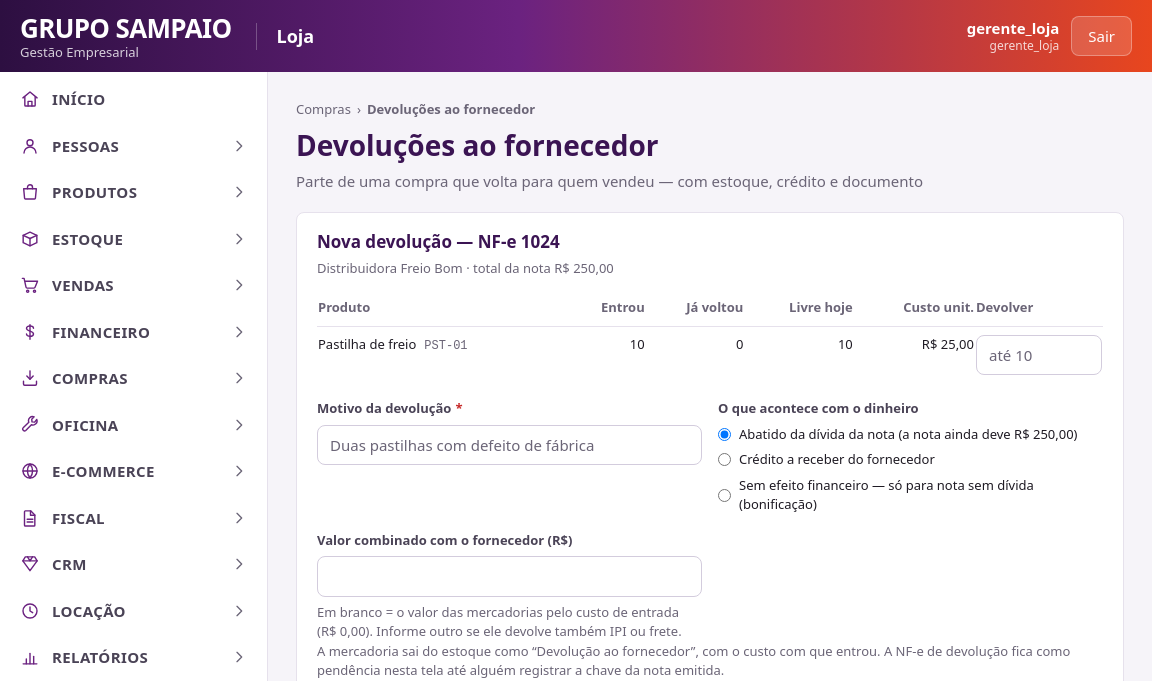
GAP-PRD-089 — a devolução nova, a partir da nota › o registro viaja com itens, motivo e modo; a ficha abre com a pendência fiscal
In the number field named "Quantidade de Pastilha de freio a devolver": (1039, 355) [976,334,1102,375], type "2"
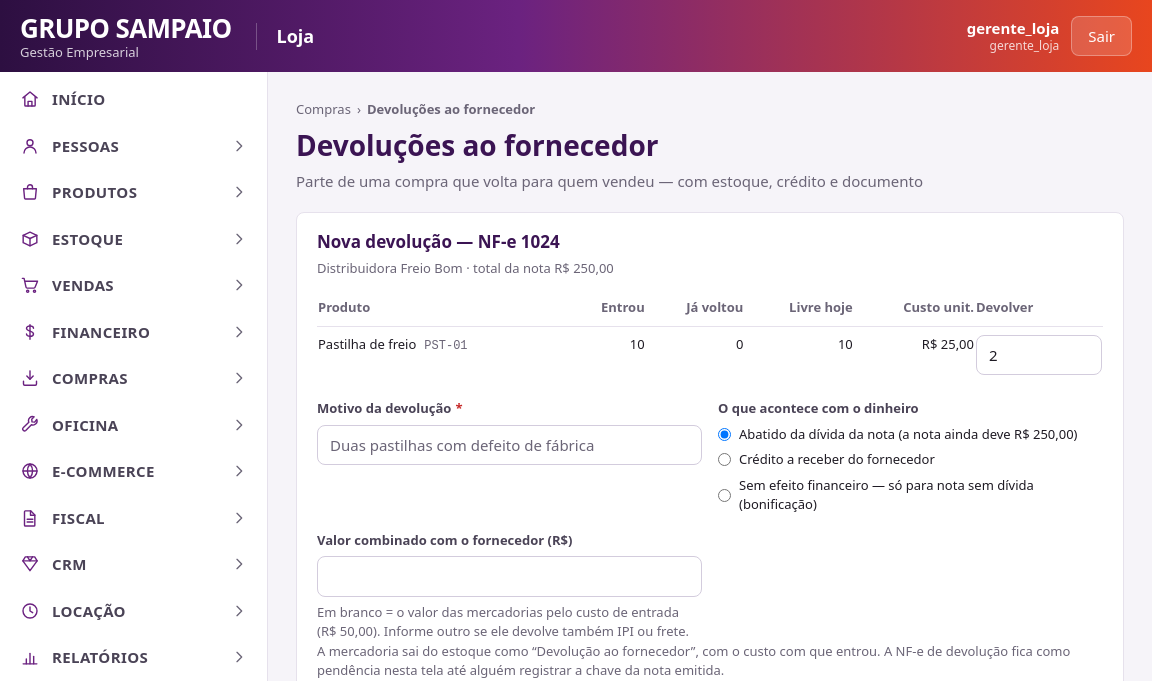
In the field labelled "Motivo da devolução*": (510, 445) [317,424,702,465], type "Duas com defeito"
(page scrolled)
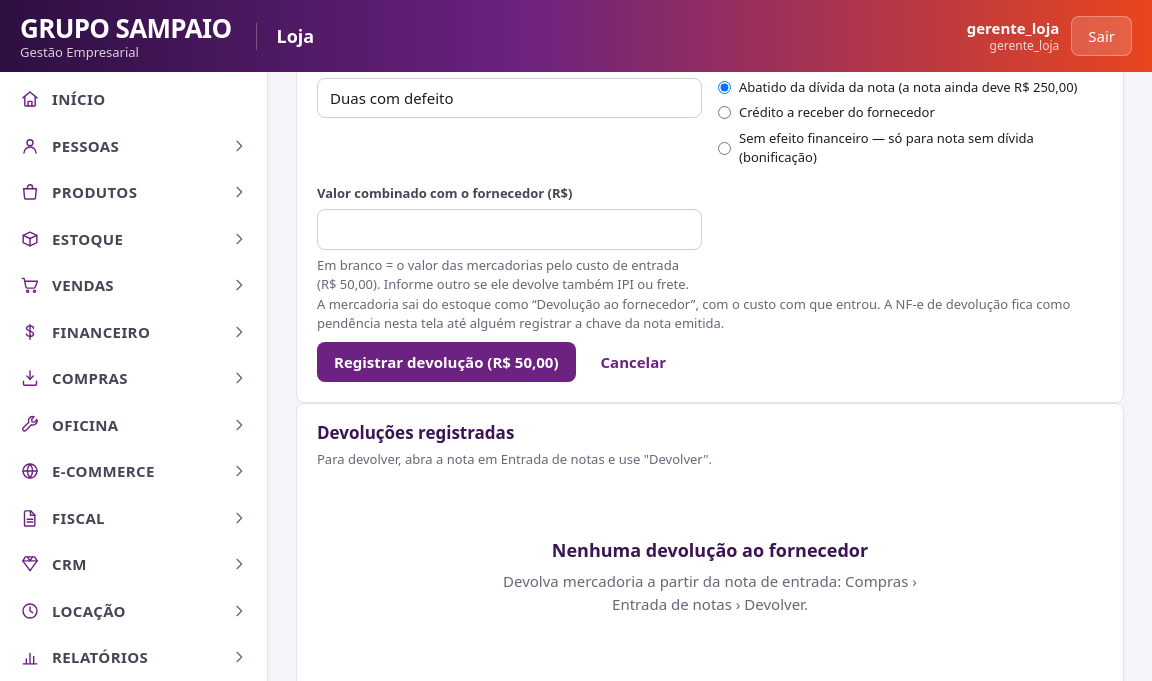
Click the button "Registrar devolução (R$ 50,00)": (446, 362) [317,342,576,382]
(page scrolled)
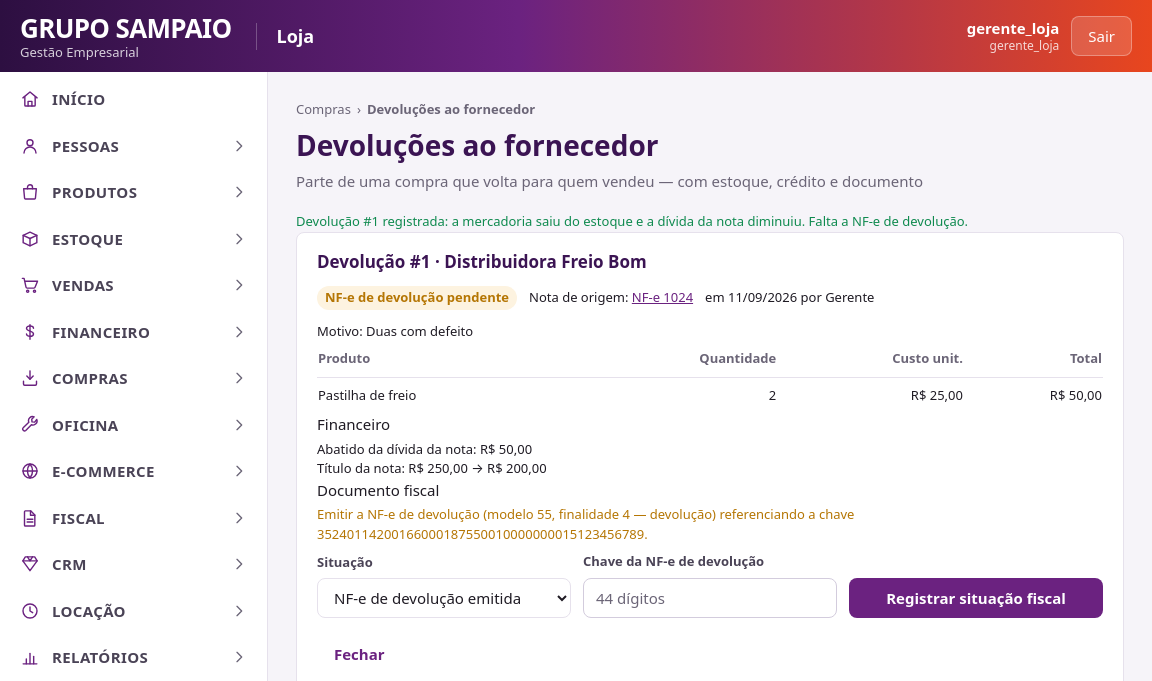
Result: the text "Devolução #1 registrada" is shown at [296,212,968,230]
Result: the text "finalidade 4" is shown at [317,505,854,542]
Result: the list item "Título da nota: R$ 250,00 → R$ 200,00" is shown at [317,459,547,477]
